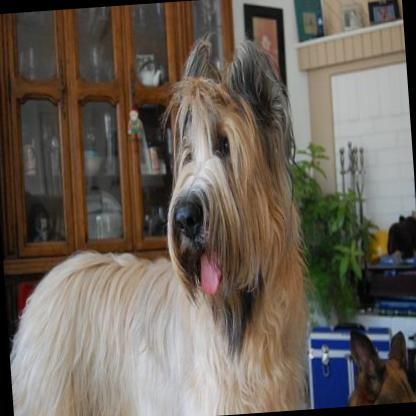briard: (0, 25, 321, 416)
